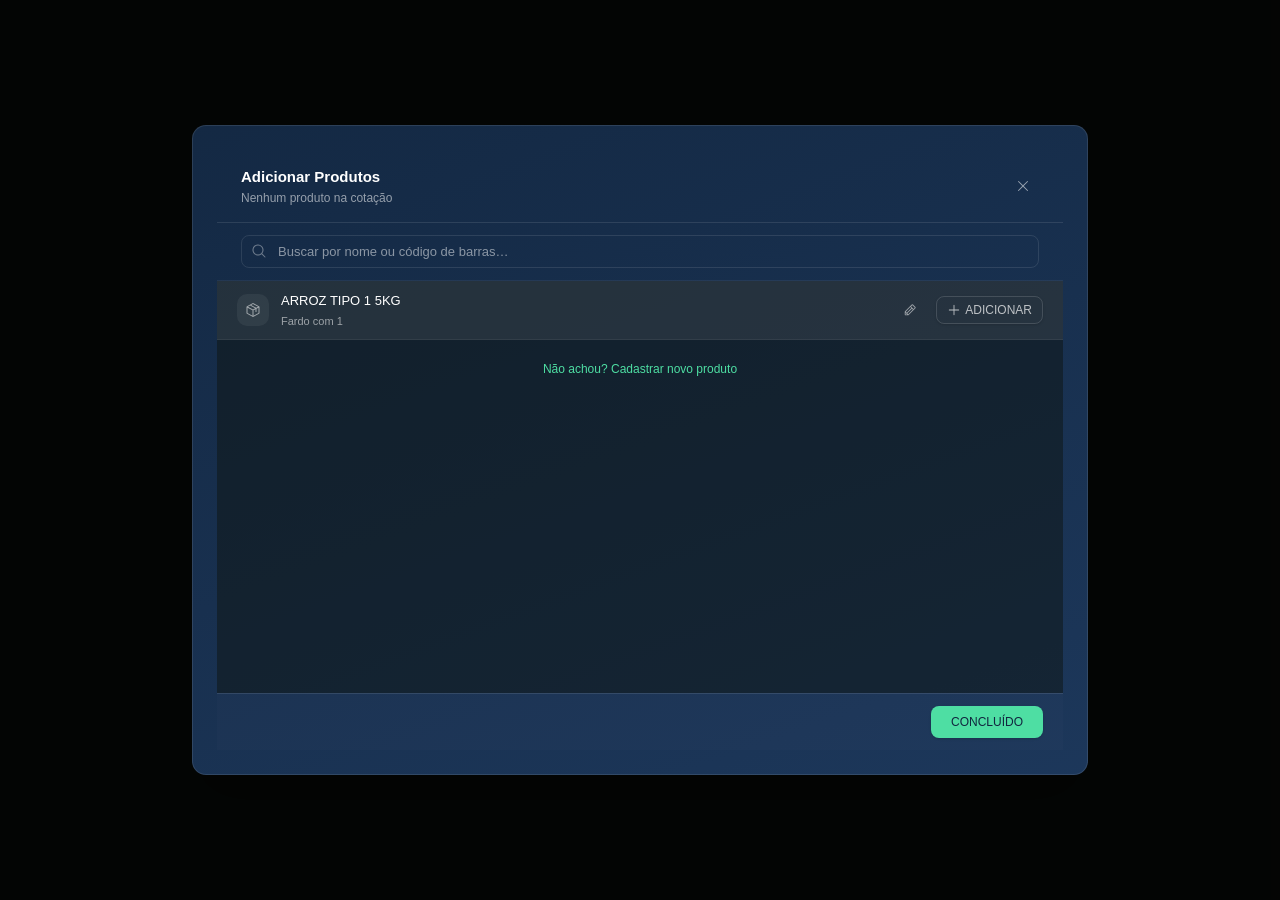
Scenario: AdicionarItemModal › sugestão do catálogo global usa o mesmo layout de linha do próprio catálogo (ícone + nome + botão Adicionar)
Expected: the text "Arroz Tipo 1 5kg" is shown, [281,293,401,308]
Step 1. Type "coco" into the field with placeholder "Buscar por nome ou código de barras…" → (640, 251), box [241,234,1039,268]
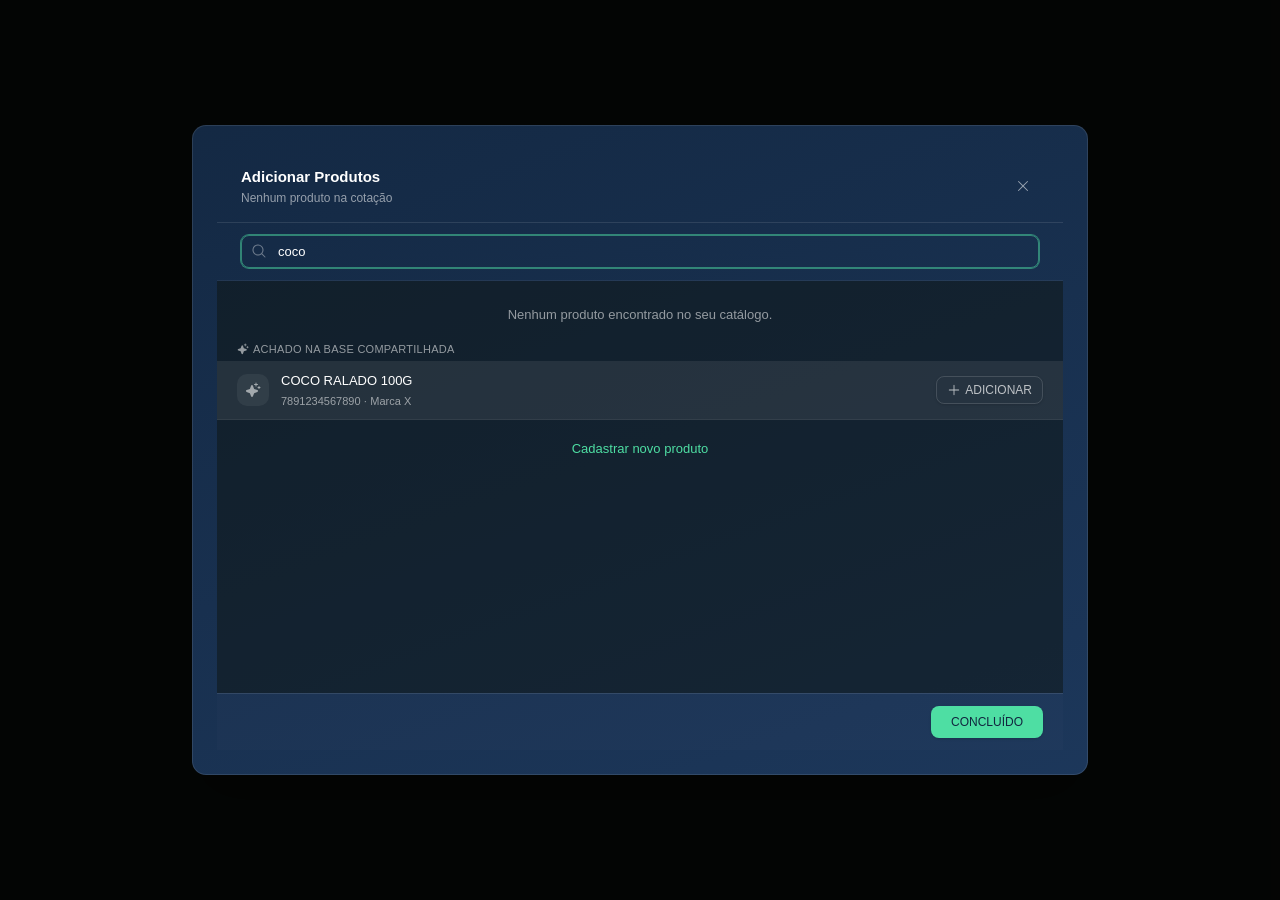
Expected: the text "7891234567890 · Marca X" is shown, [281,394,411,406]
Expected: the button with aria-label "Cadastrar e adicionar Coco Ralado 100g" is shown, [936,376,1043,404]
